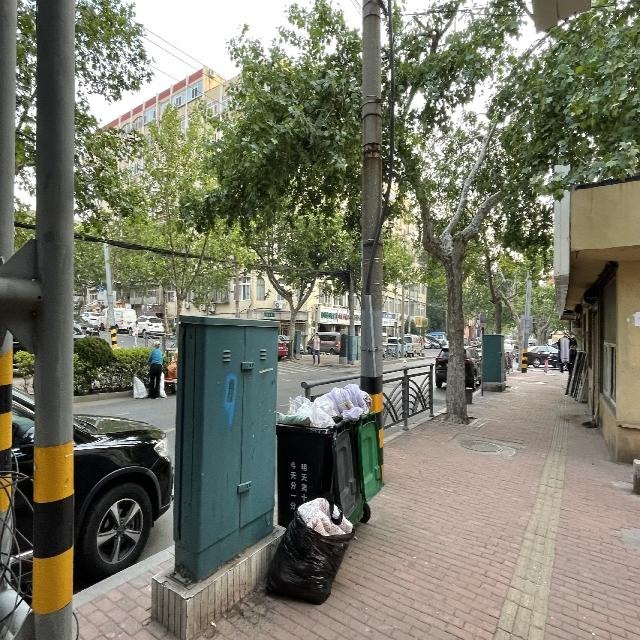garbage: (266, 497, 354, 605)
overflow: (274, 395, 360, 525), (323, 383, 381, 525)
